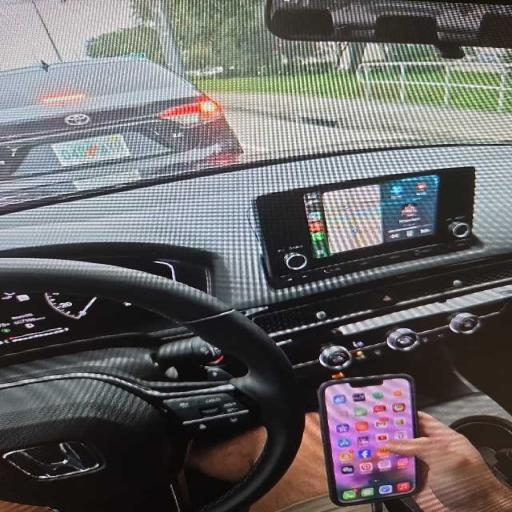car: (0, 0, 511, 511), (0, 58, 241, 206)
lane: (226, 109, 415, 159)
person: (388, 413, 511, 511)
